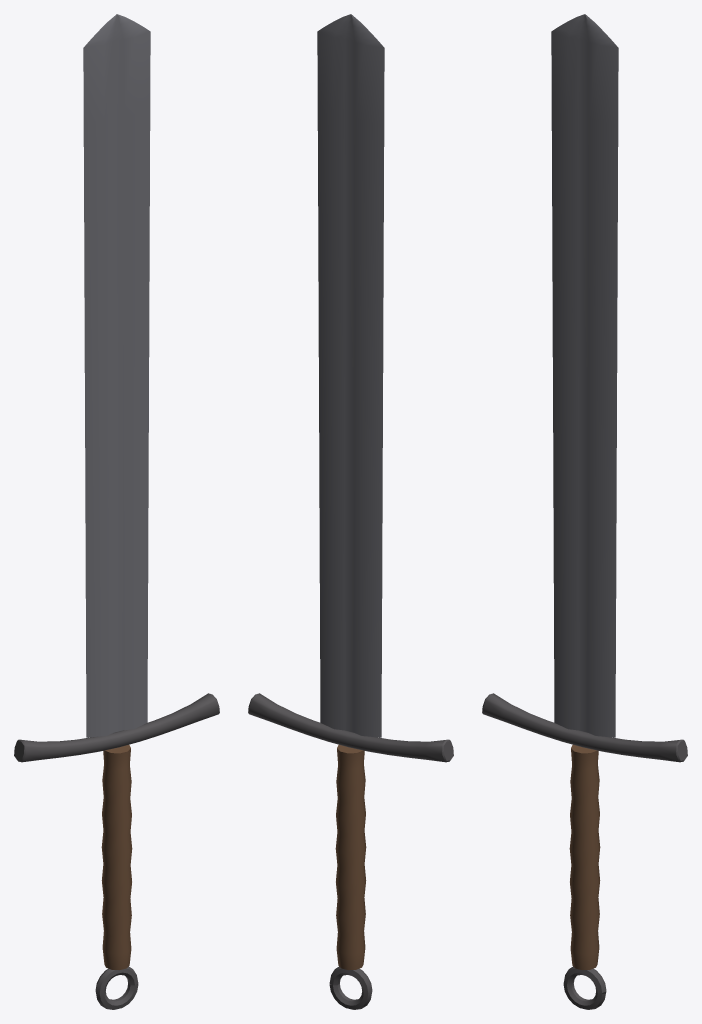
Rendered from executioner_blade.glb.
3 views of the same model, side by side, from view 1: azimuth 30°, elevation 25°; view 2: azimuth 150°, elevation 25°; view 3: azimuth 330°, elevation 25° (orthographic).
Visible parts, largest first — view 1: executioner_blade; view 2: executioner_blade; view 3: executioner_blade.
Boxes of the visible parts, x1,y1,x2,y2 form: executioner_blade: (14,14,219,1009); executioner_blade: (248,14,453,1009); executioner_blade: (482,14,687,1009).
Size of the model in its own units: 0.3263 by 1.56 by 0.0414.
